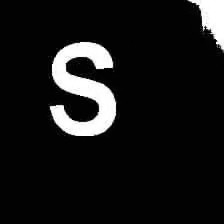LTR_S: (44, 38, 119, 136)
